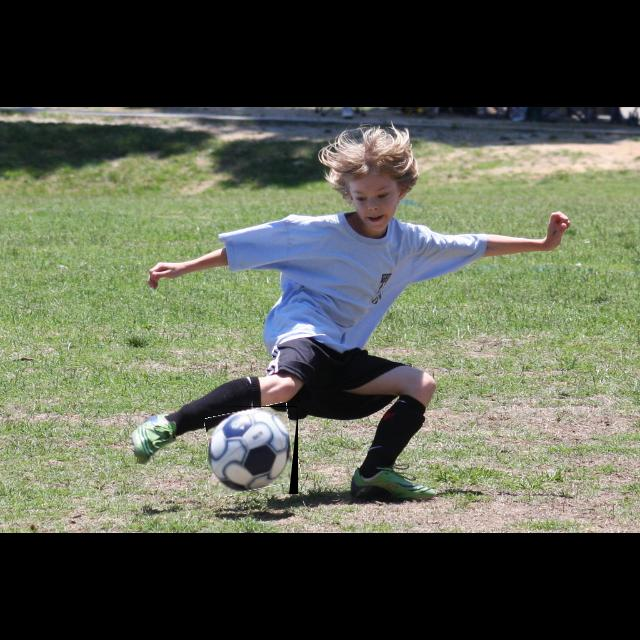Football: (208, 406, 298, 494)
